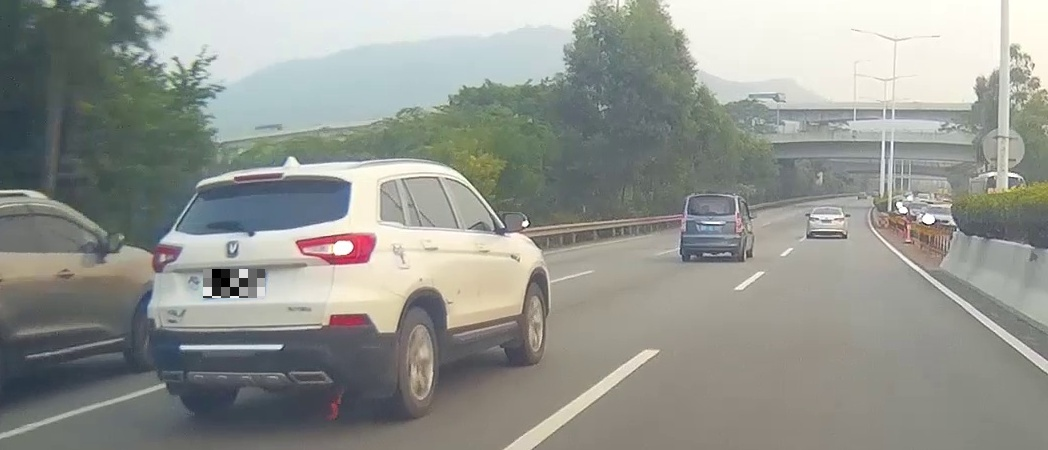L_light: (150, 243, 184, 272), (681, 213, 686, 232), (809, 217, 819, 220)
R_light: (296, 233, 377, 264), (736, 213, 742, 233), (835, 217, 844, 221)
T_light: (233, 172, 284, 182), (705, 212, 718, 215), (824, 208, 831, 210)
day-no: (679, 193, 744, 262), (806, 205, 847, 238)
day-right: (147, 164, 382, 415)
plate_1: (203, 269, 265, 298)
